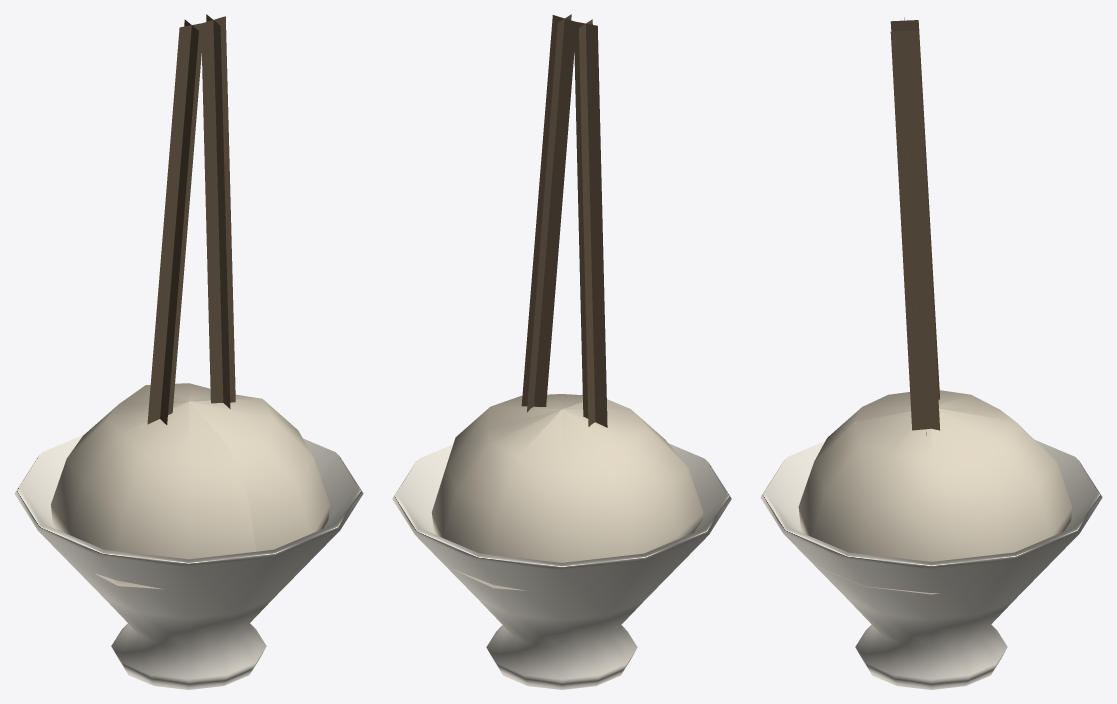
File: SM_RiceBowl.glb
3 renders of one model, left to right at view 1: azimuth 30°, elevation 25°; view 2: azimuth 150°, elevation 25°; view 3: azimuth 270°, elevation 25°, orthographic. The views are drawn at different scales.
Visible parts, largest first — view 1: SM_RiceBowl_Mound, SM_RiceBowl_Bowl, SM_Chopstick_Quad1 (×2), SM_Chopstick_Quad2 (×2); view 2: SM_RiceBowl_Mound, SM_RiceBowl_Bowl, SM_Chopstick_Quad1 (×2), SM_Chopstick_Quad2 (×2); view 3: SM_RiceBowl_Mound, SM_RiceBowl_Bowl, SM_Chopstick_Quad2 (×2).
Part boxes in pixels (x1,y1,x2,y2): SM_RiceBowl_Mound: [51, 383, 329, 589]; SM_RiceBowl_Bowl: [14, 434, 363, 689]; SM_Chopstick_Quad1 (×2): [147, 16, 235, 424]; SM_Chopstick_Quad2 (×2): [160, 14, 230, 424]; SM_RiceBowl_Mound: [431, 394, 703, 590]; SM_RiceBowl_Bowl: [392, 443, 731, 689]; SM_Chopstick_Quad1 (×2): [521, 15, 607, 427]; SM_Chopstick_Quad2 (×2): [527, 14, 595, 426]; SM_RiceBowl_Mound: [798, 390, 1072, 594]; SM_RiceBowl_Bowl: [760, 440, 1102, 689]; SM_Chopstick_Quad2 (×2): [890, 20, 940, 430].
Size of the model in its own units: 0.11 by 0.2255 by 0.11.
